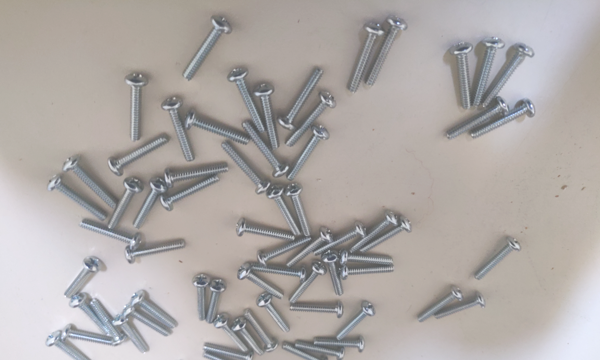longscrew: (284, 88, 338, 148), (280, 64, 328, 130), (49, 174, 107, 227), (484, 44, 532, 107), (178, 17, 228, 77), (105, 133, 170, 178), (284, 123, 331, 183), (369, 19, 406, 92), (344, 23, 381, 95), (448, 99, 509, 142), (65, 160, 117, 210), (162, 96, 200, 164), (474, 102, 535, 144), (242, 124, 286, 178), (474, 237, 524, 282), (229, 68, 263, 134), (346, 210, 397, 254), (361, 212, 412, 256), (224, 143, 267, 195), (162, 178, 222, 215), (186, 112, 249, 146), (80, 220, 144, 252), (312, 223, 364, 262), (107, 178, 143, 230), (476, 37, 502, 106), (132, 175, 165, 229), (130, 291, 179, 327), (449, 40, 474, 109), (420, 285, 463, 323), (235, 266, 283, 300), (289, 230, 330, 269), (69, 295, 106, 338), (266, 187, 299, 235), (127, 70, 148, 145), (122, 306, 174, 336), (259, 236, 311, 266), (159, 165, 228, 187), (112, 314, 148, 356), (126, 238, 188, 262), (430, 296, 488, 321), (62, 259, 100, 297), (214, 316, 251, 355), (231, 319, 268, 358), (243, 314, 280, 353), (92, 298, 122, 346), (337, 303, 375, 340), (258, 295, 294, 334), (289, 263, 323, 304), (235, 221, 300, 242), (260, 79, 279, 150), (60, 327, 118, 349), (287, 183, 311, 234), (48, 331, 89, 360), (203, 340, 256, 360), (297, 341, 348, 360), (193, 269, 211, 320), (207, 274, 225, 325), (326, 252, 344, 300), (312, 337, 368, 352), (249, 264, 308, 278), (339, 253, 399, 266), (339, 266, 399, 278), (286, 305, 350, 316), (282, 344, 326, 360), (202, 353, 255, 360)
